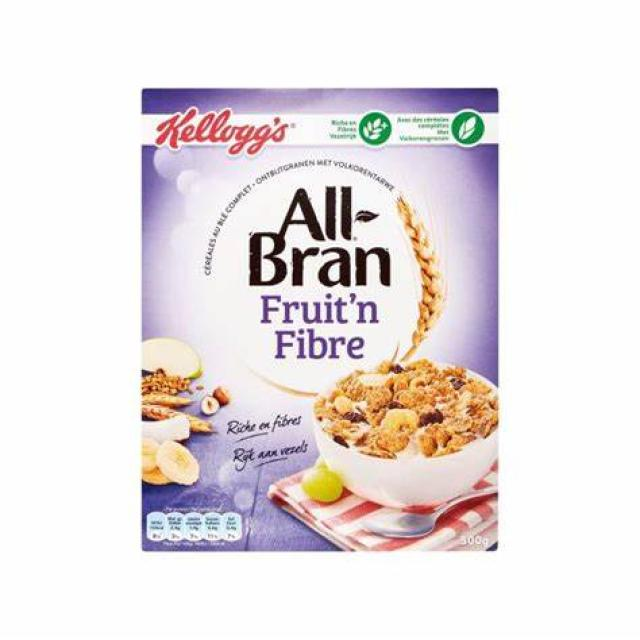Caja: (124, 65, 517, 562)
